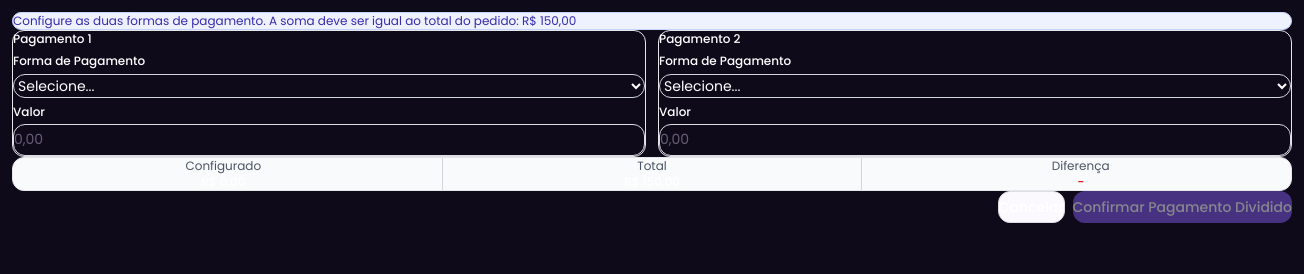
Test: PagamentoDividido Component › should enable confirm button when configuration is valid
Select "PIX" in the dropdown labelled "Forma de Pagamento" below "Pagamento 1": (329, 86) x1=13 y1=74 x2=645 y2=98
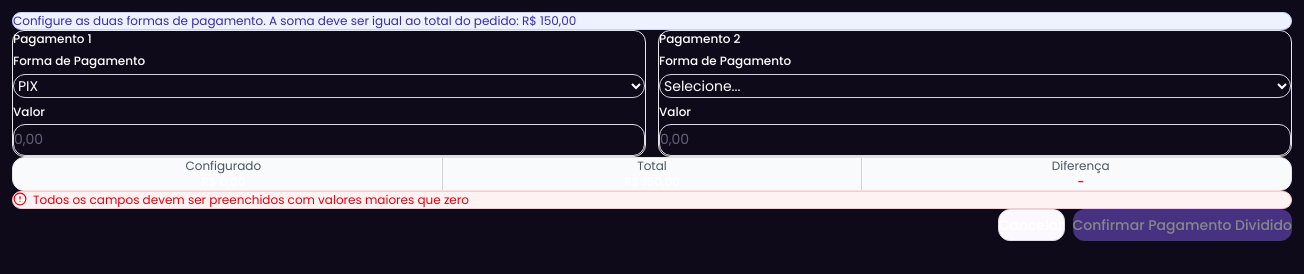
Select "Dinheiro" in the dropdown labelled "Forma de Pagamento" below "Pagamento 2": (975, 86) x1=659 y1=74 x2=1291 y2=98
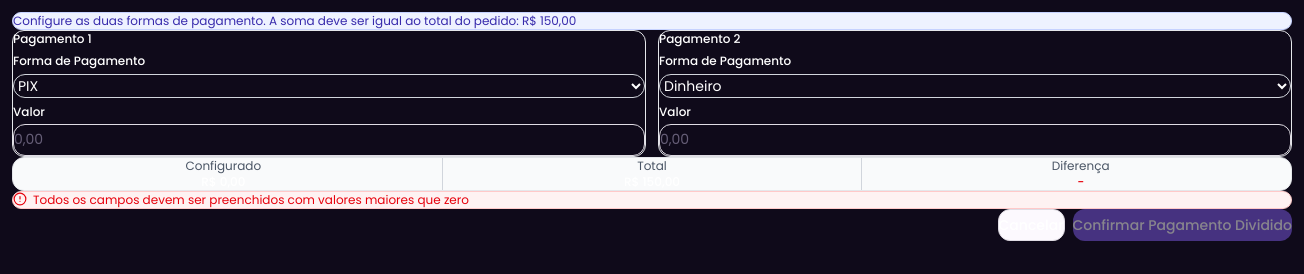
In the field labelled "Valor" below "Pagamento 1": (329, 140) x1=13 y1=124 x2=645 y2=156, type "50"
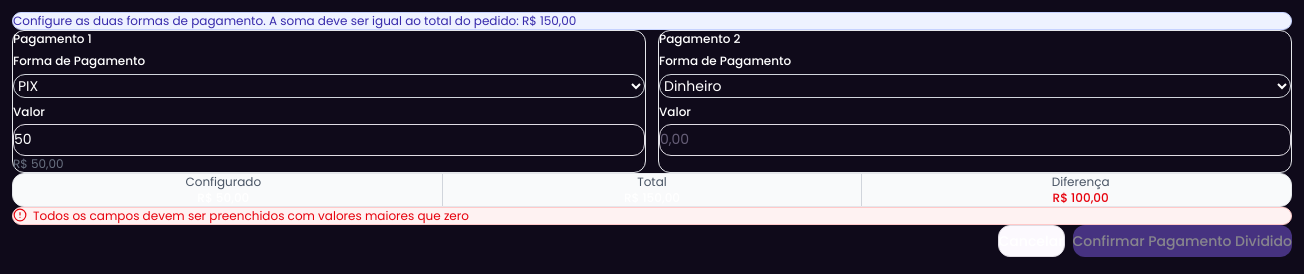
In the field labelled "Valor" below "Pagamento 2": (975, 140) x1=659 y1=124 x2=1291 y2=156, type "100"
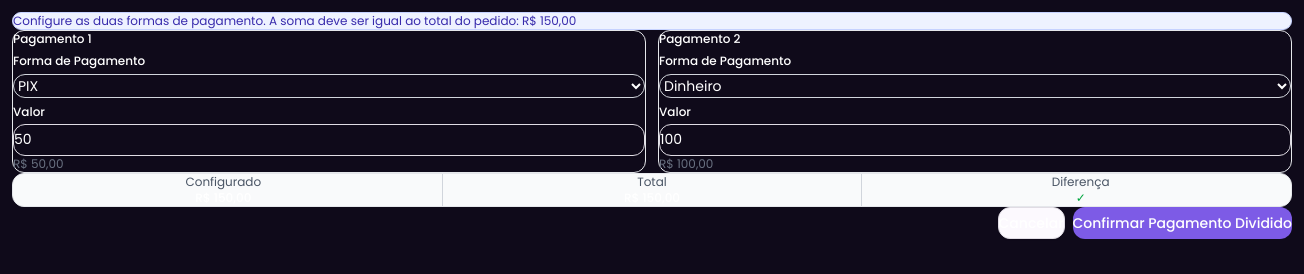
Now the button "Confirmar Pagamento Dividido" is enabled, box x1=1072 y1=207 x2=1292 y2=239
